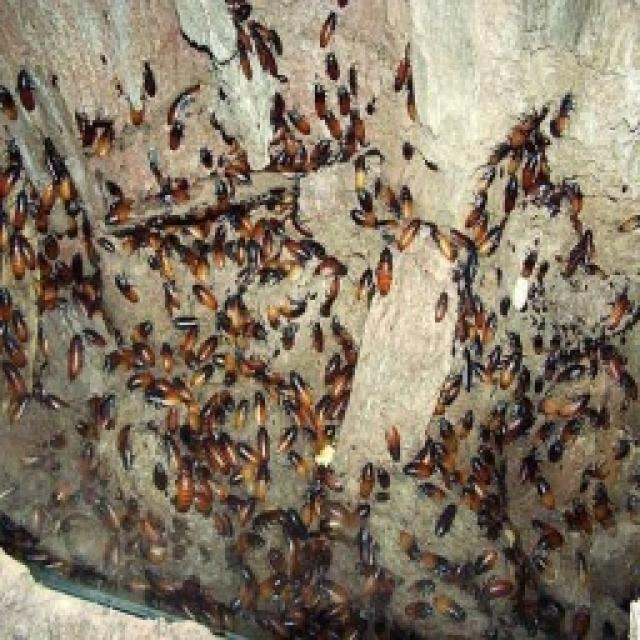cockroach: (16, 65, 40, 124), (312, 248, 349, 285), (392, 217, 426, 257), (118, 414, 138, 480), (610, 287, 636, 337), (590, 479, 615, 530), (176, 456, 194, 526), (346, 202, 383, 236), (561, 386, 601, 417), (451, 404, 479, 448), (430, 501, 464, 537), (433, 223, 459, 270), (526, 519, 571, 545), (65, 331, 87, 384), (512, 448, 543, 484), (284, 105, 314, 142), (352, 262, 376, 307), (466, 451, 492, 491), (288, 370, 314, 408), (401, 524, 423, 565), (190, 282, 220, 312), (386, 424, 406, 468), (350, 109, 374, 145), (9, 305, 36, 337), (532, 481, 559, 513), (271, 427, 300, 456), (309, 317, 330, 356), (118, 276, 146, 304), (432, 286, 451, 327), (319, 9, 340, 46), (312, 82, 330, 124), (0, 84, 18, 126), (252, 394, 272, 430), (324, 52, 346, 84), (106, 200, 132, 227), (254, 427, 273, 463), (10, 226, 23, 278), (289, 452, 312, 480), (379, 245, 391, 295), (408, 606, 441, 624), (397, 53, 412, 92), (237, 394, 250, 436), (37, 392, 62, 412), (283, 312, 293, 361)
